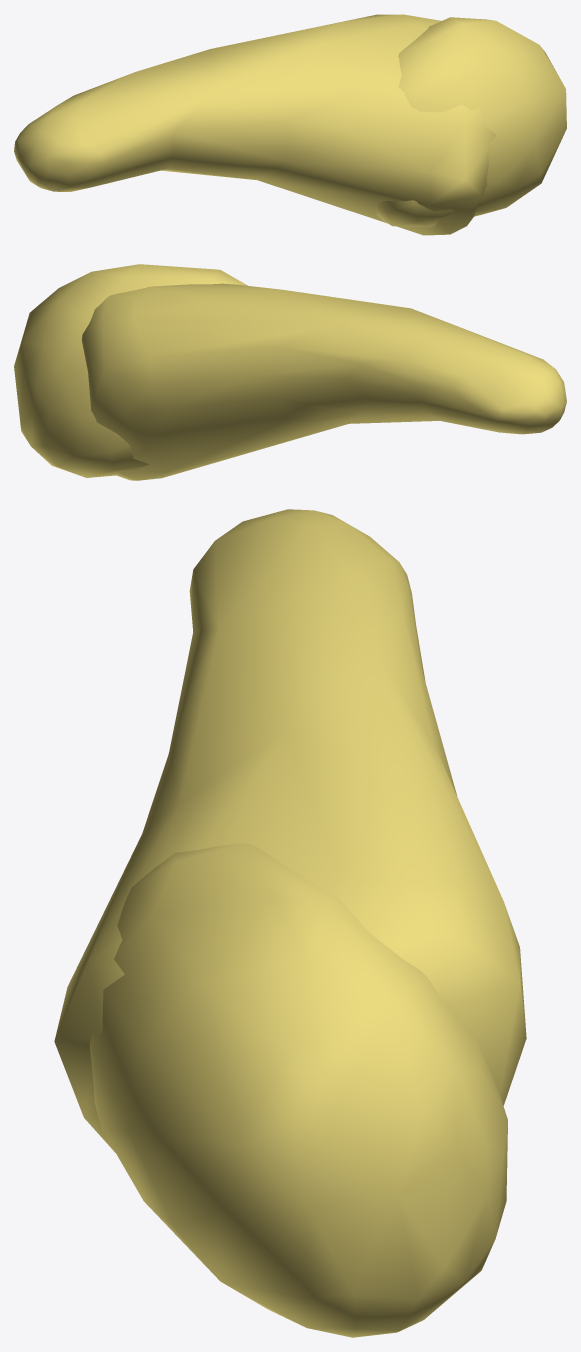
The model's file is superior-colliculus-r.glb.
3 renders of one model, top to bottom at view 1: azimuth 30°, elevation 25°; view 2: azimuth 150°, elevation 25°; view 3: azimuth 270°, elevation 25°, orthographic. The views are drawn at different scales.
Parts seen in each view (by area): view 1: Superior colliculus.r; view 2: Superior colliculus.r; view 3: Superior colliculus.r.
Boxes of the visible parts, bbox=[...] form: Superior colliculus.r: bbox=[14, 14, 566, 235]; Superior colliculus.r: bbox=[14, 264, 566, 480]; Superior colliculus.r: bbox=[54, 509, 526, 1337].
Bounding box in the file's own units: 0.017 × 0.00639 × 0.00647.
